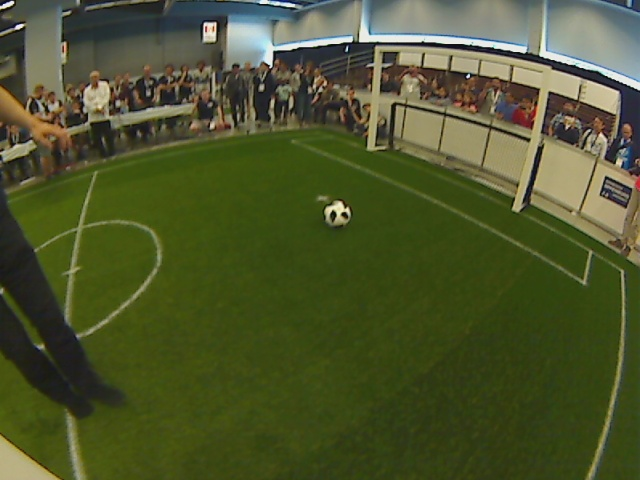ball: (321, 198, 355, 231)
goalpost: (502, 192, 529, 225), (356, 132, 384, 163)
